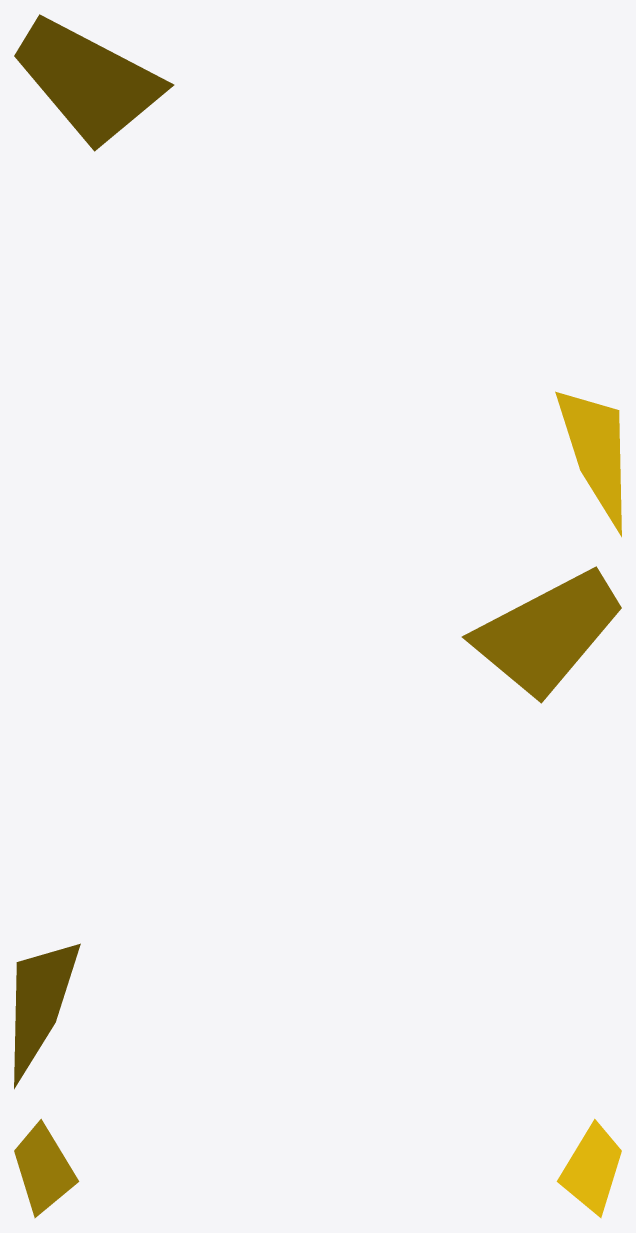
The model's file is van hole2.fbx.
The picture shows the model from 3 angles, top to bottom: view 1: azimuth 30°, elevation 25°; view 2: azimuth 150°, elevation 25°; view 3: azimuth 270°, elevation 25°; orthographic projection. The views are drawn at different scales.
Visible parts, largest first — view 1: Car 4.001; view 2: Car 4.001; view 3: Car 4.001.
Boxes of the visible parts, left/top/right/bottom form: Car 4.001: left=14, top=14, right=621, bottom=537; Car 4.001: left=14, top=566, right=621, bottom=1089; Car 4.001: left=14, top=1118, right=621, bottom=1218.
Size of the model in its own units: 16.05 by 24.06 by 158.
